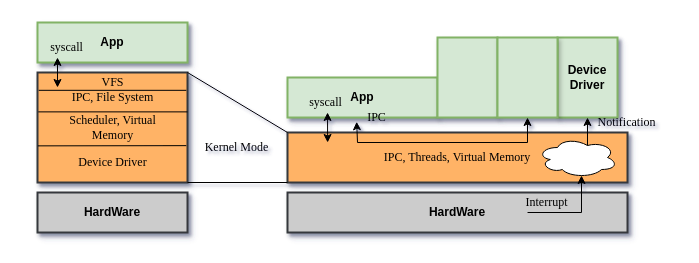
The diagram is 699 pixels wide and 263 high, and some of its shapes have lost their labels. The centre of each missing label's shape, as x and y in pixels:
"File System" goes at point (528, 78).
"NW protocol Stack" goes at point (468, 78).
"Scheduler" goes at point (577, 157).
